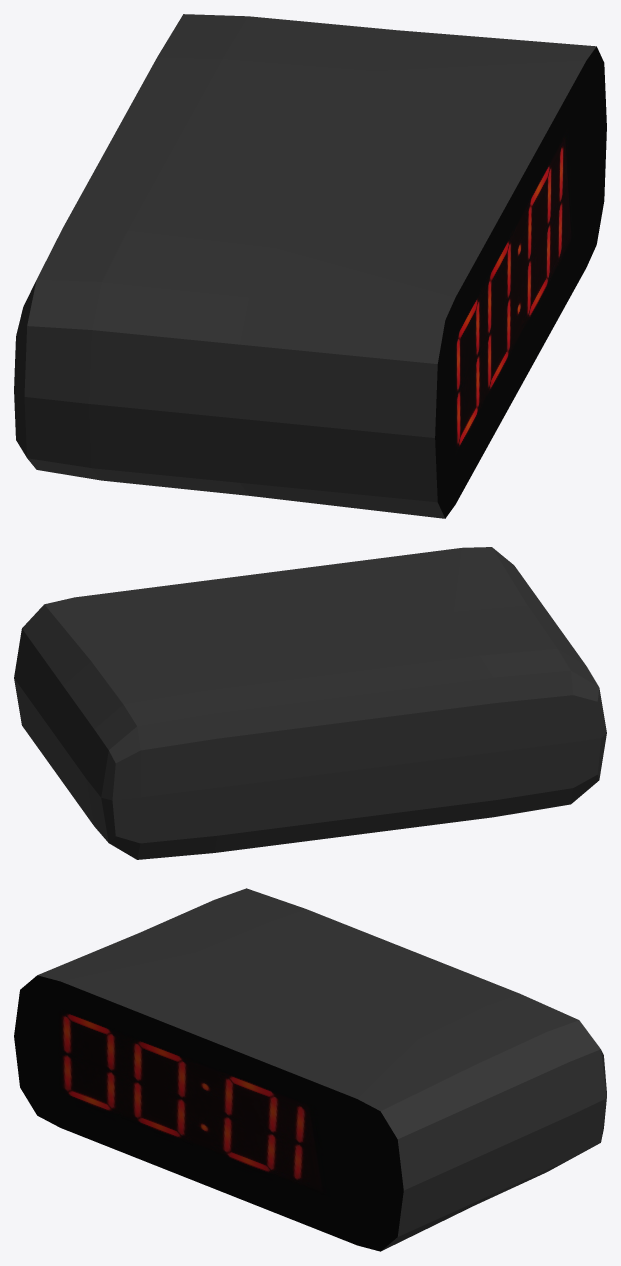
The model's file is alarm clock.glb.
3 views of the same model, one above another, from view 1: azimuth 30°, elevation 25°; view 2: azimuth 150°, elevation 25°; view 3: azimuth 270°, elevation 25° (orthographic). The views are drawn at different scales.
Parts seen in each view (by area): view 1: Cube.003; view 2: Cube.003; view 3: Cube.003.
Boxes of the visible parts, box(x1,y1,x2,y2) form: Cube.003: box(14, 14, 606, 518); Cube.003: box(14, 547, 606, 859); Cube.003: box(14, 888, 606, 1251).
Bounding box in the file's own units: 7.17 × 1.99 × 7.29.
2 materials, 1 textured.
